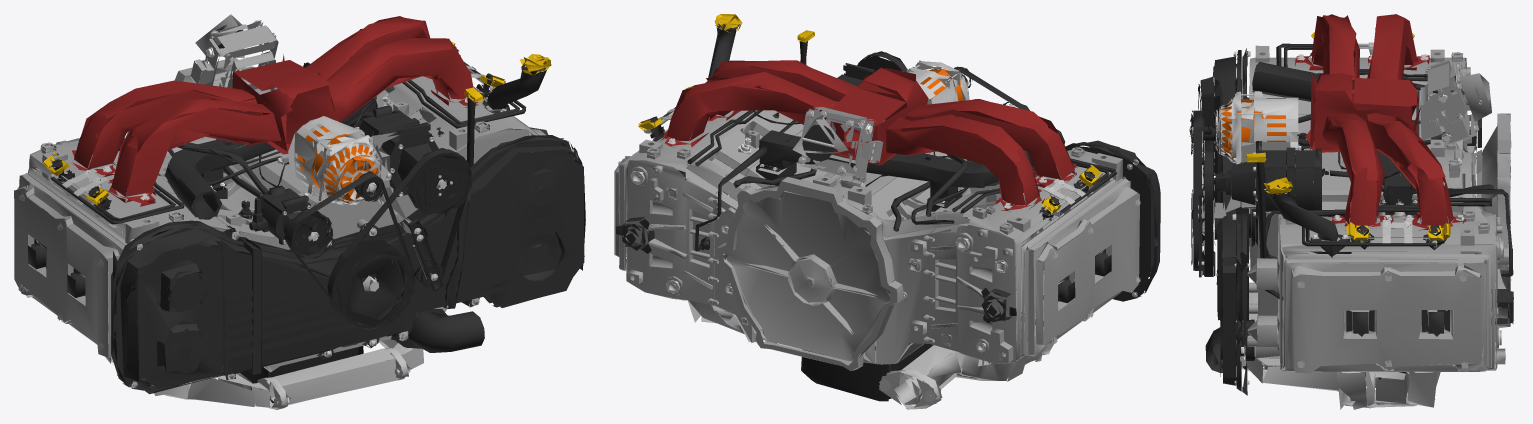
Rendered from eng-f4-25-t.glb.
3 renders of one model, left to right at view 1: azimuth 30°, elevation 25°; view 2: azimuth 150°, elevation 25°; view 3: azimuth 270°, elevation 25°, orthographic. The views are drawn at different scales.
Visible parts, largest first — view 1: p0; view 2: p0; view 3: p0.
Boxes of the visible parts, <box> form: p0: <box>14,14,585,409</box>; p0: <box>614,14,1160,409</box>; p0: <box>1189,14,1513,409</box>.
Bounding box in the file's own units: 0.8697 × 0.5641 × 0.5531.
